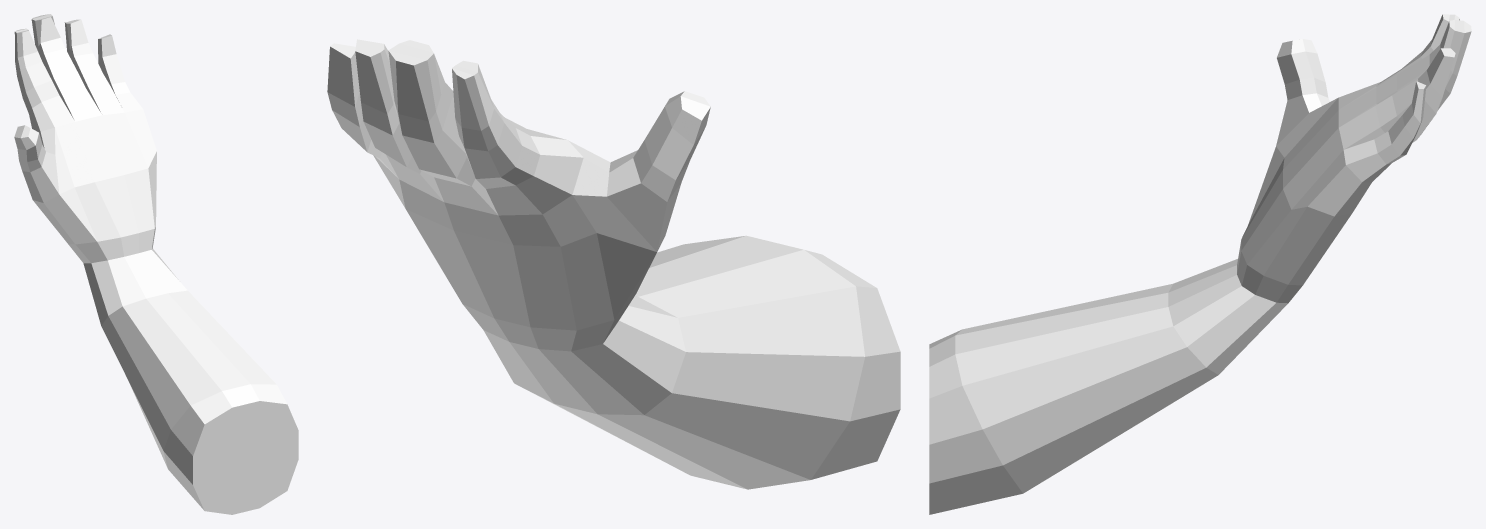
File: venice_statue_1.fbx
3 renders of one model, left to right at view 1: azimuth 30°, elevation 25°; view 2: azimuth 150°, elevation 25°; view 3: azimuth 270°, elevation 25°, orthographic. The views are drawn at different scales.
Parts seen in each view (by area): view 1: Cube.271; view 2: Cube.271; view 3: Cube.271.
Part boxes in pixels (x1,y1,x2,y2): Cube.271: (14,14,298,514); Cube.271: (327,39,900,489); Cube.271: (929,14,1471,514).
Bounding box in the file's own units: 273 × 626 × 648.
